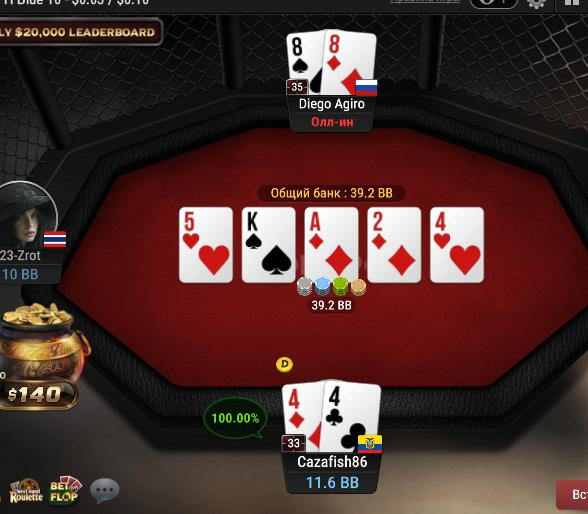2d: (369, 208, 421, 281)
4c: (323, 379, 379, 453)
4d: (281, 384, 323, 454)
4h: (430, 206, 485, 282)
5h: (179, 207, 232, 284)
8d: (324, 30, 375, 94)
8s: (285, 33, 324, 92)
Ad: (305, 207, 359, 279)
Ks: (243, 207, 295, 282)
